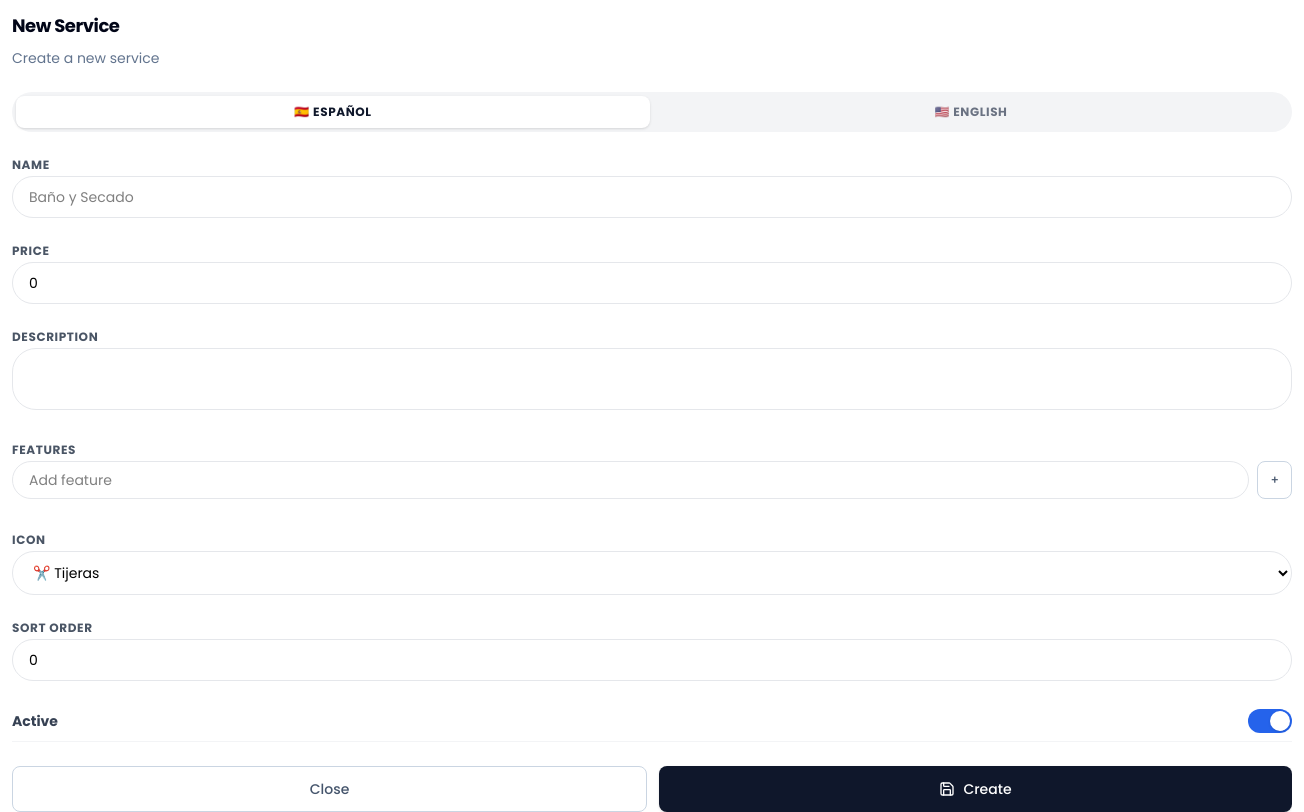
Test: ServiceFormSidebar › validates required name
Click the button "Create": click(976, 789) [659,766,1292,811]
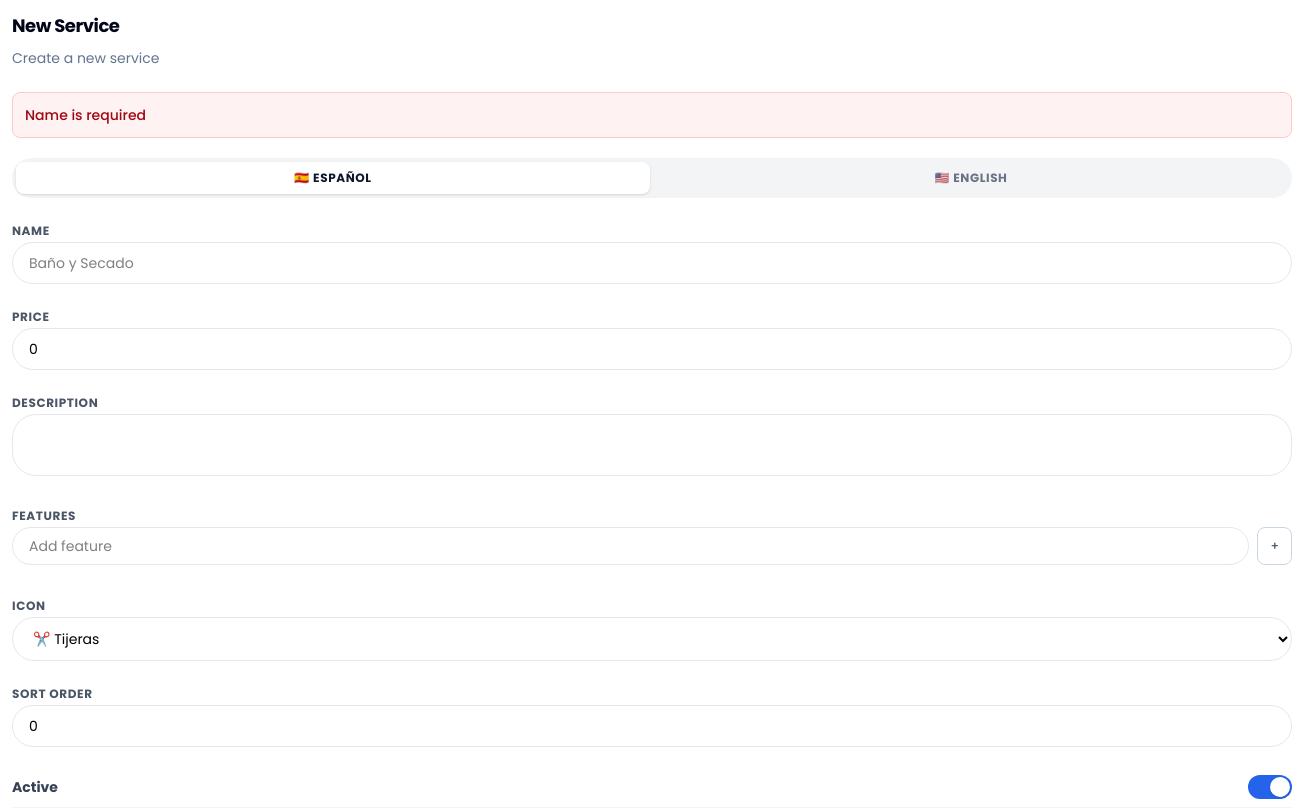
Now the text "Name is required" is shown, box [12,92,1292,138]
